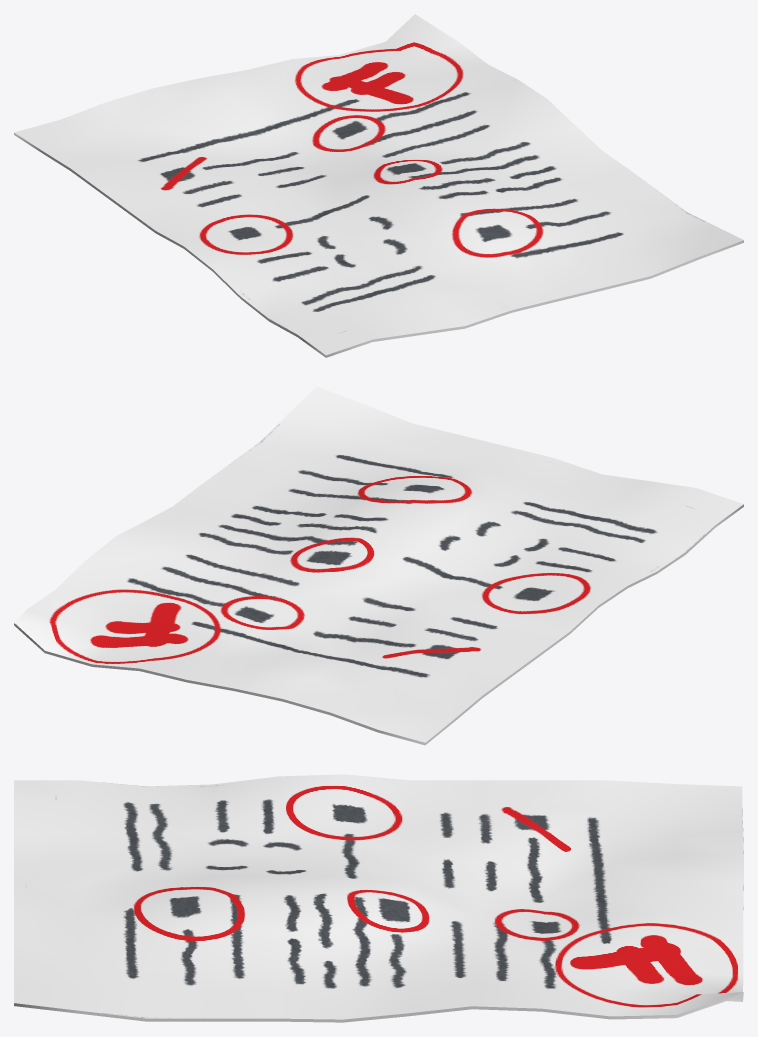
Rendered from Paper.fbx.
3 renders of one model, top to bottom at view 1: azimuth 30°, elevation 25°; view 2: azimuth 150°, elevation 25°; view 3: azimuth 270°, elevation 25°, orthographic. The views are drawn at different scales.
Parts seen in each view (by area): view 1: pCube1; view 2: pCube1; view 3: pCube1.
Boxes of the visible parts, x1,y1,x2,y2 form: pCube1: (14,14,743,357); pCube1: (14,386,743,745); pCube1: (14,774,743,1022).
Bounding box in the file's own units: 361 × 23.11 × 468.
